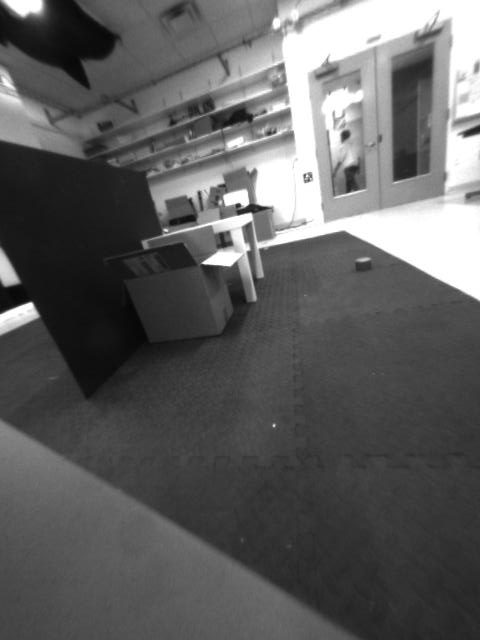dogtoy: (343, 249, 380, 278)
